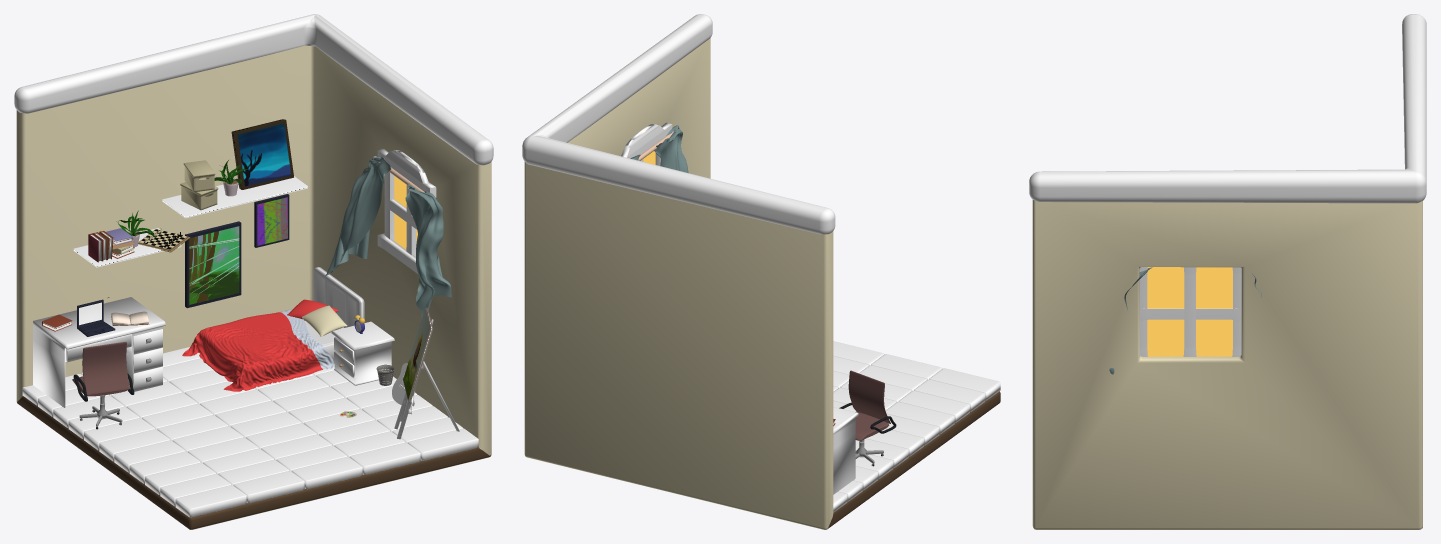
The model's file is room1.glb.
The picture shows the model from 3 angles, left to right: view 1: azimuth 30°, elevation 25°; view 2: azimuth 150°, elevation 25°; view 3: azimuth 270°, elevation 25°; orthographic projection. The views are drawn at different scales.
Parts seen in each view (by area): view 1: wall, floor, wall.001, blanket.001, Cube.006, Plane.002, Cube.019, Cube.016, windo, chair, drawer, Cube.002 (+10 smaller); view 2: wall, wall.001, floor, chair, Cube.006, windo, Plane.002; view 3: wall, wall.001, Plane.001, windo.
Part boxes in pixels (x1,y1,x2,y2): wall: [16, 45, 491, 529]; floor: [22, 347, 478, 517]; wall.001: [14, 14, 493, 165]; blanket.001: [182, 309, 334, 391]; Cube.006: [33, 297, 165, 407]; Plane.002: [325, 156, 451, 318]; Cube.019: [185, 221, 241, 308]; Cube.016: [231, 119, 293, 189]; windo: [377, 149, 436, 274]; chair: [72, 342, 134, 429]; drawer: [331, 321, 394, 385]; Cube.002: [162, 176, 307, 218]; wall: [524, 38, 1000, 529]; wall.001: [522, 14, 835, 234]; floor: [833, 341, 1000, 512]; chair: [839, 370, 896, 466]; Cube.006: [833, 407, 858, 494]; windo: [621, 122, 672, 165]; Plane.002: [630, 125, 688, 172]; wall: [1032, 200, 1422, 529]; wall.001: [1029, 14, 1426, 203]; Plane.001: [1147, 267, 1232, 356]; windo: [1139, 267, 1241, 356].
Size of the model in its own units: 3.45 by 3.4 by 3.44.
Materials: 53 (5 with a texture image).
